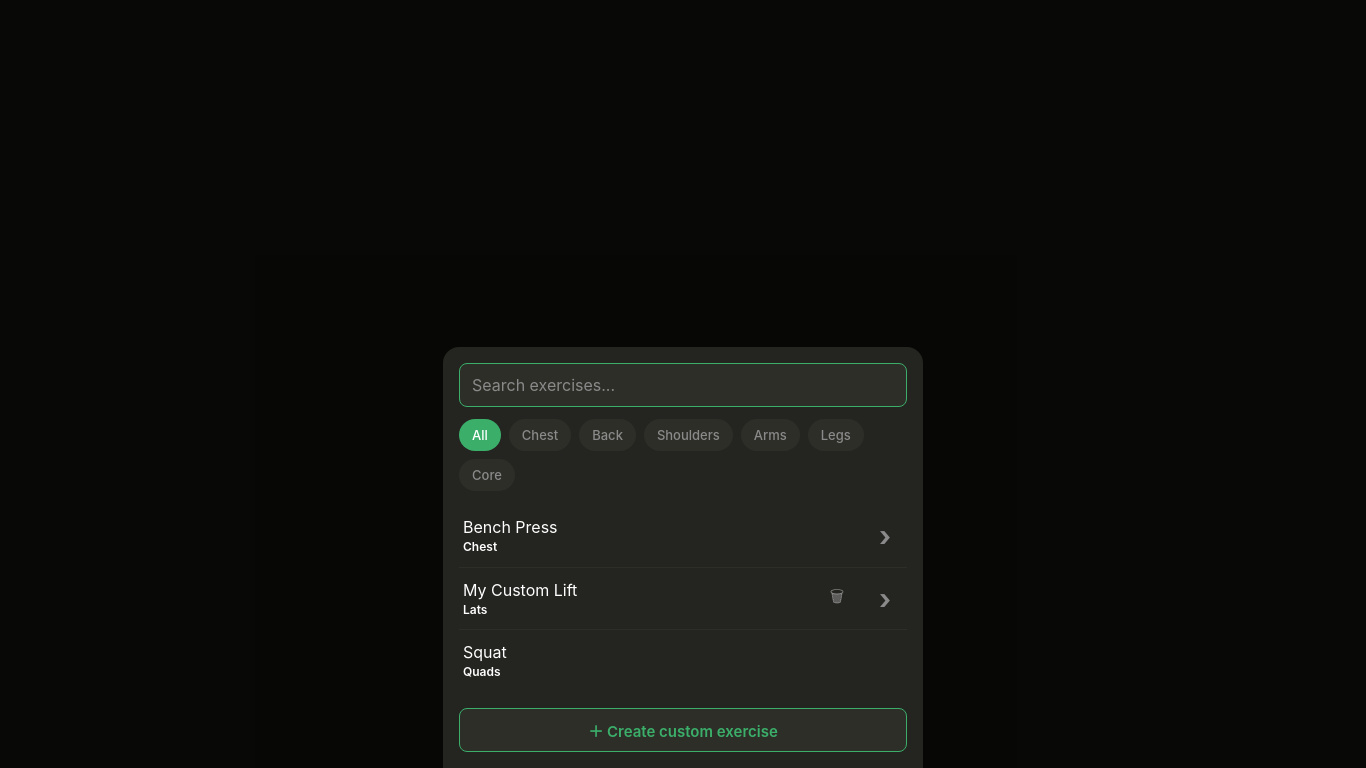
Test case: delete flow › variant-bearing custom delete renders choice modal with orphan as default
The image size is (1366, 768).
Expected: the text "My Custom Lift" is shown, [463,580,577,600]
Click the button named "Delete My Custom Lift": (837, 599) [815,577,859,621]
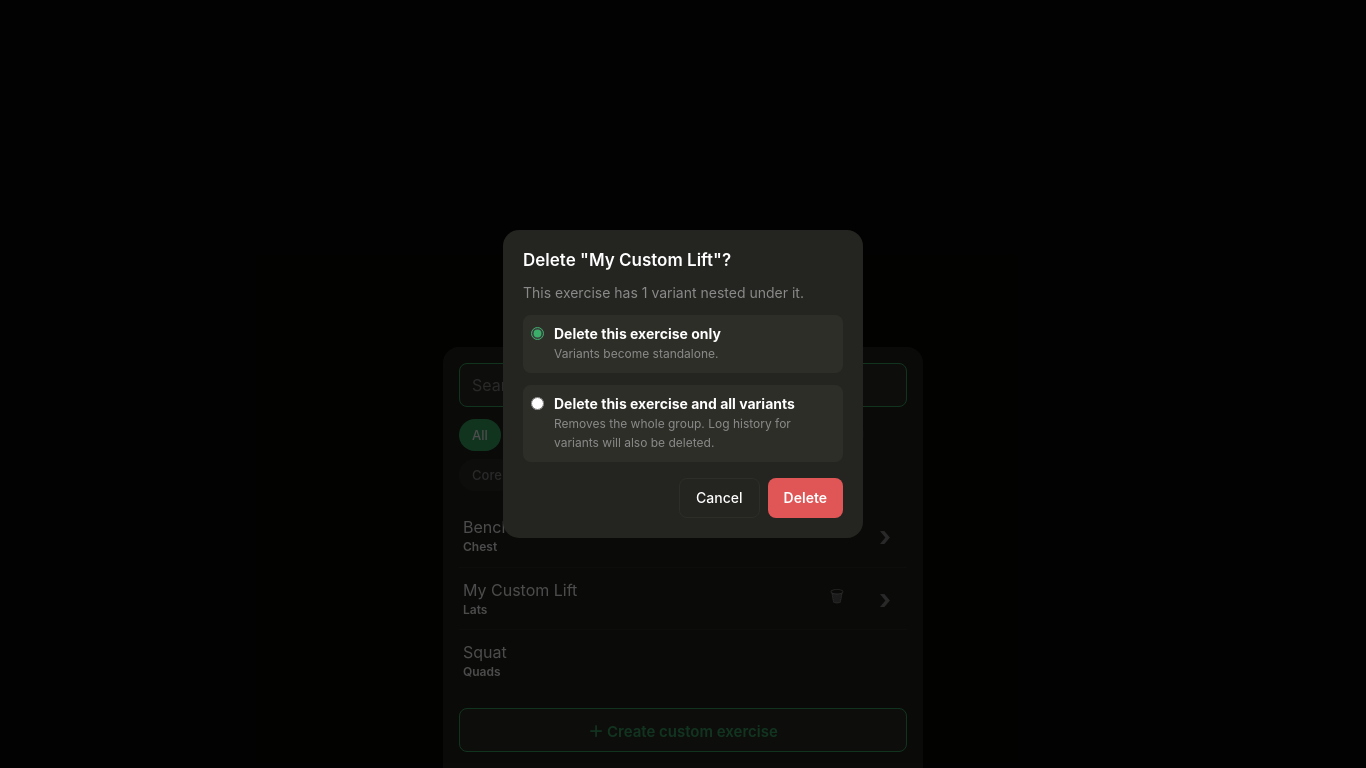
Expected: the number of radio buttons is 2, [531,328,544,340]; [531,397,544,410]
Expected: the 1st radio button is checked, [531,328,544,340]
Expected: the 2nd radio button is not checked, [531,397,544,410]
